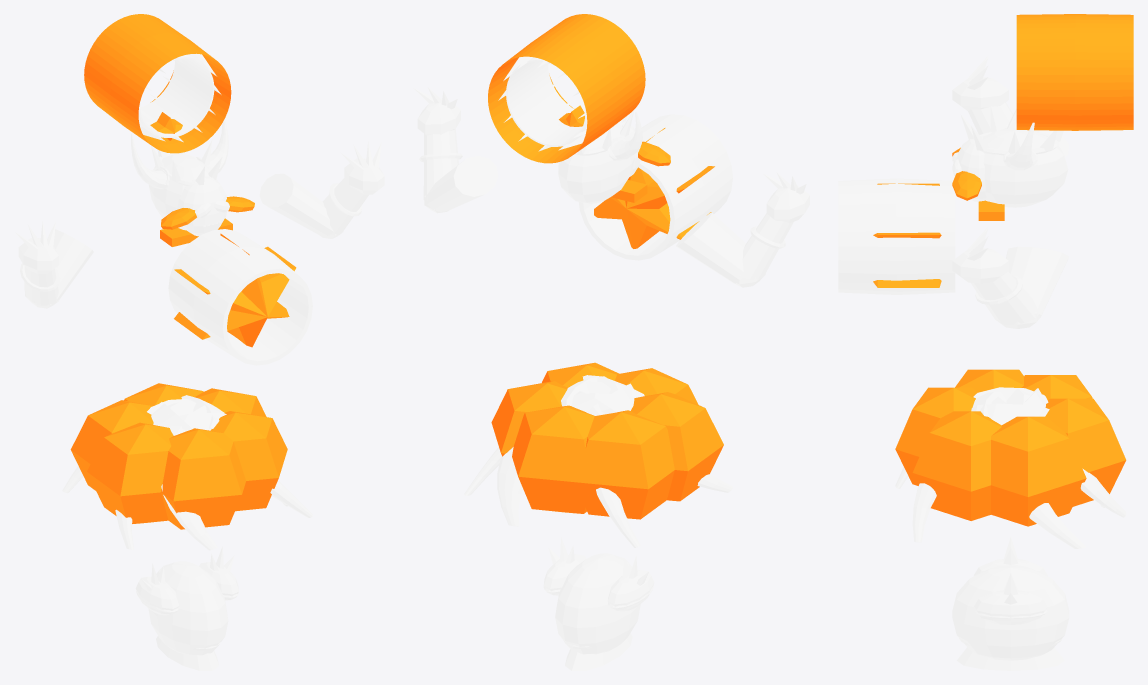
File: morghast-v5-leger.glb
3 views of the same model, side by side, from view 1: azimuth 30°, elevation 25°; view 2: azimuth 150°, elevation 25°; view 3: azimuth 270°, elevation 25° (orthographic). The views are drawn at different scales.
Parts seen in each view (by area): view 1: boss_coeur.003, lueur_boss_halo, boss_corps.002, lueur_boss_tentacule4, lueur_boss_tentacule3, boss_tete.003, boss_bras_d.002, lueur_boss_tentacule5, boss_bras_g.002, boss_halo.003, lueur_boss_coeur, lueur_boss_tentacule2 (+6 smaller); view 2: lueur_boss_halo, boss_corps.002, boss_coeur.003, lueur_boss_tentacule2, lueur_boss_tentacule1, boss_bras_g.002, boss_bras_d.002, lueur_boss_tentacule3, boss_halo.003, boss_tete.003, lueur_boss_coeur, lueur_boss_tentacule0 (+7 smaller); view 3: lueur_boss_halo, boss_coeur.003, boss_corps.002, lueur_boss_tentacule0, boss_tete.003, lueur_boss_tentacule5, boss_bras_d.002, lueur_boss_tentacule1, lueur_boss_tentacule4, boss_bras_g.002, boss_tentacule0.002, lueur_boss_tentacule2 (+6 smaller).
Part boxes in pixels (<box>): boss_coeur.003: <box>168,229,312,365</box>; lueur_boss_halo: <box>84,14,231,153</box>; boss_corps.002: <box>135,546,238,670</box>; lueur_boss_tentacule4: <box>161,428,245,529</box>; lueur_boss_tentacule3: <box>87,422,173,523</box>; boss_tete.003: <box>131,119,229,236</box>; boss_bras_d.002: <box>259,141,384,238</box>; lueur_boss_tentacule5: <box>211,411,287,511</box>; boss_bras_g.002: <box>15,221,93,308</box>; boss_halo.003: <box>138,53,221,142</box>; lueur_boss_coeur: <box>174,233,296,347</box>; lueur_boss_tentacule2: <box>70,400,153,490</box>; lueur_boss_halo: <box>488,14,645,163</box>; boss_corps.002: <box>543,537,654,670</box>; boss_coeur.003: <box>578,114,732,260</box>; lueur_boss_tentacule2: <box>585,410,674,519</box>; lueur_boss_tentacule1: <box>512,405,594,513</box>; boss_bras_g.002: <box>676,172,809,287</box>; boss_bras_d.002: <box>413,87,498,213</box>; lueur_boss_tentacule3: <box>631,392,723,501</box>; boss_halo.003: <box>498,56,587,151</box>; boss_tete.003: <box>558,110,643,203</box>; lueur_boss_coeur: <box>594,128,714,248</box>; lueur_boss_tentacule0: <box>491,381,567,456</box>; lueur_boss_halo: <box>1016,14,1133,130</box>; boss_coeur.003: <box>838,178,955,294</box>; boss_corps.002: <box>952,537,1069,670</box>; lueur_boss_tentacule0: <box>991,416,1086,526</box>; boss_tete.003: <box>952,105,1068,207</box>; lueur_boss_tentacule5: <box>912,411,1001,520</box>; boss_bras_d.002: <box>952,226,1069,328</box>; lueur_boss_tentacule1: <box>1045,398,1126,506</box>; lueur_boss_tentacule4: <box>895,387,977,485</box>; boss_bras_g.002: <box>952,55,1069,156</box>; boss_tentacule0.002: <box>971,403,1085,548</box>; lueur_boss_tentacule2: <box>1021,375,1092,399</box>.
Bounding box in the file's own units: 7.8 × 12.1 × 5.05.
